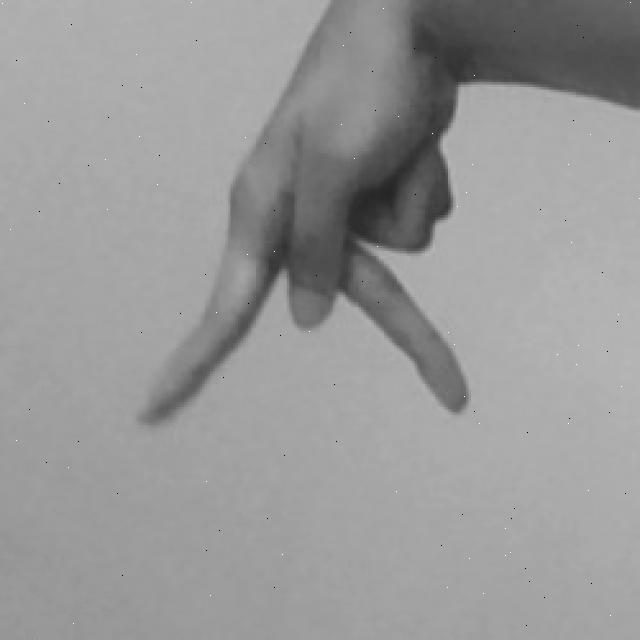P: (123, 0, 640, 438)
